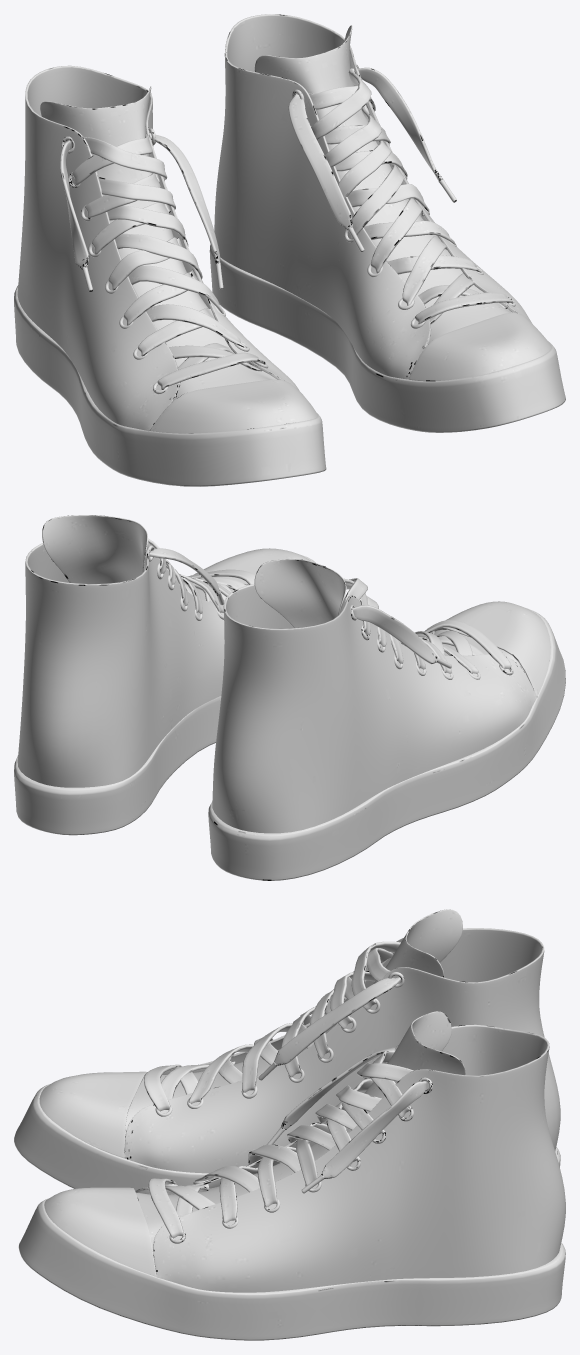
File: bk_sneakers.glb
3 renders of one model, top to bottom at view 1: azimuth 30°, elevation 25°; view 2: azimuth 150°, elevation 25°; view 3: azimuth 270°, elevation 25°, orthographic. The views are drawn at different scales.
Parts seen in each view (by area): view 1: Shoe Left, Shoe right; view 2: Shoe right, Shoe Left; view 3: Shoe Left, Shoe right.
Boxes of the visible parts, left/top/right/bottom form: Shoe Left: left=209, top=14, right=565, bottom=432; Shoe right: left=14, top=65, right=326, bottom=486; Shoe right: left=208, top=559, right=565, bottom=880; Shoe Left: left=14, top=515, right=315, bottom=835; Shoe Left: left=18, top=1011, right=565, bottom=1340; Shoe right: left=14, top=909, right=560, bottom=1190.
Size of the model in its own units: 0.2451 by 0.1546 by 0.2898.
2 materials, 2 textured.
